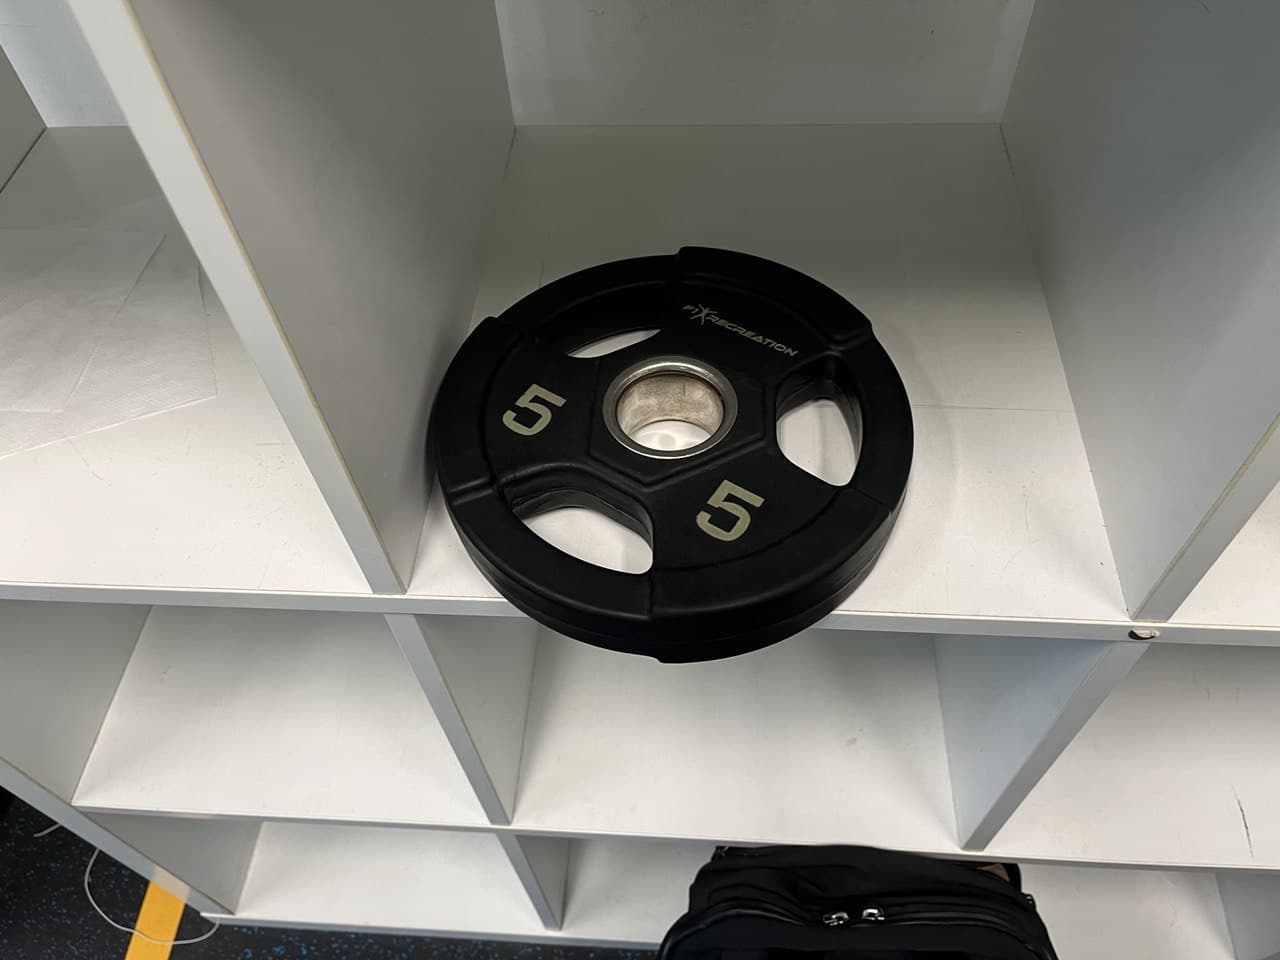weights: (424, 242, 916, 669)
